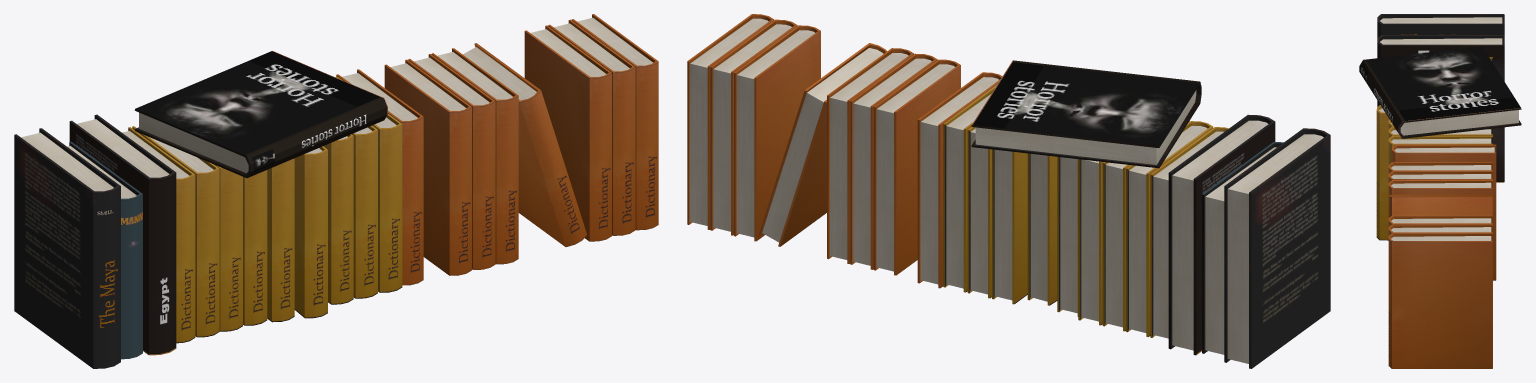
The model's file is Books 7.FBX.
3 renders of one model, left to right at view 1: azimuth 30°, elevation 25°; view 2: azimuth 150°, elevation 25°; view 3: azimuth 270°, elevation 25°, orthographic. The views are drawn at different scales.
Parts seen in each view (by area): view 1: Books 7; view 2: Books 7; view 3: Books 7.
Part boxes in pixels (x1,y1,x2,y2): Books 7: (14,14,658,368); Books 7: (687,14,1330,368); Books 7: (1359,14,1521,368).
Bounding box in the file's own units: 853 × 267 × 269.
Materials: 1 (1 with a texture image).
